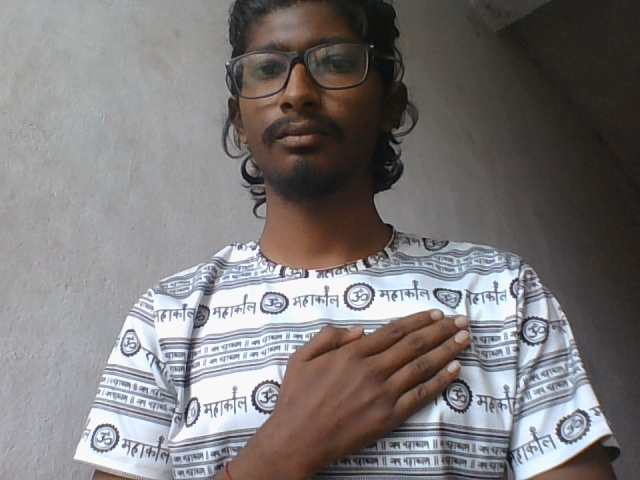Pay: (246, 305, 481, 473)
